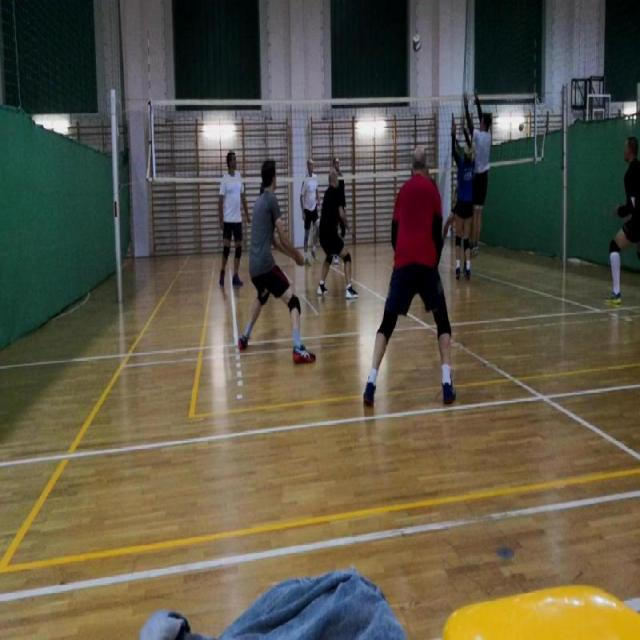volleyball: (412, 32, 422, 54)
